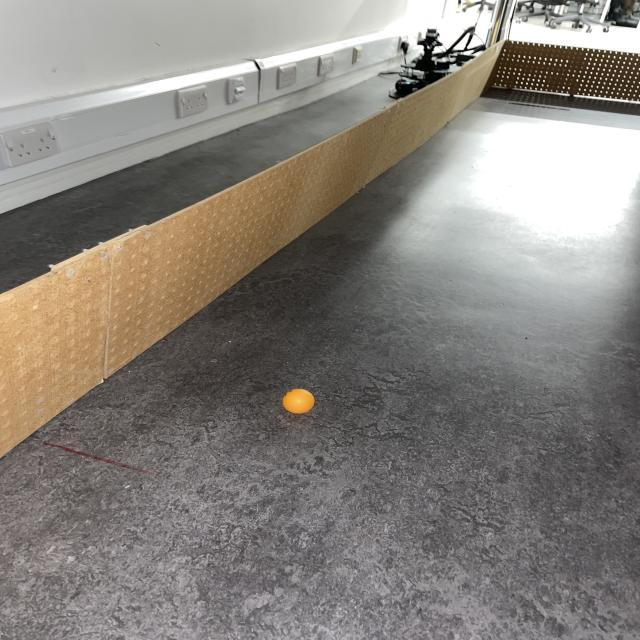oball: (284, 388, 318, 416)
